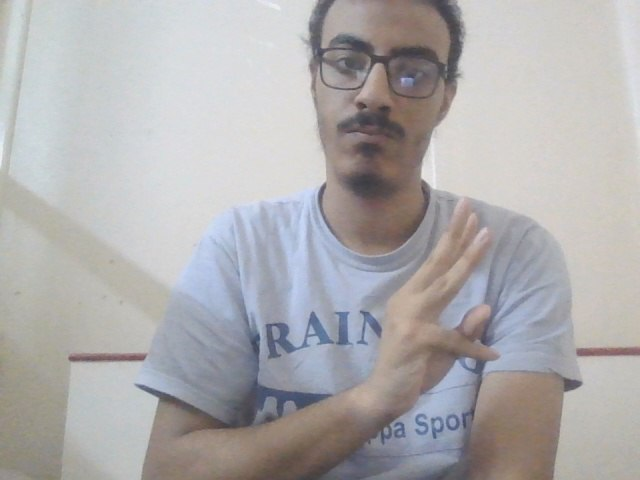Water: (373, 194, 511, 420)
